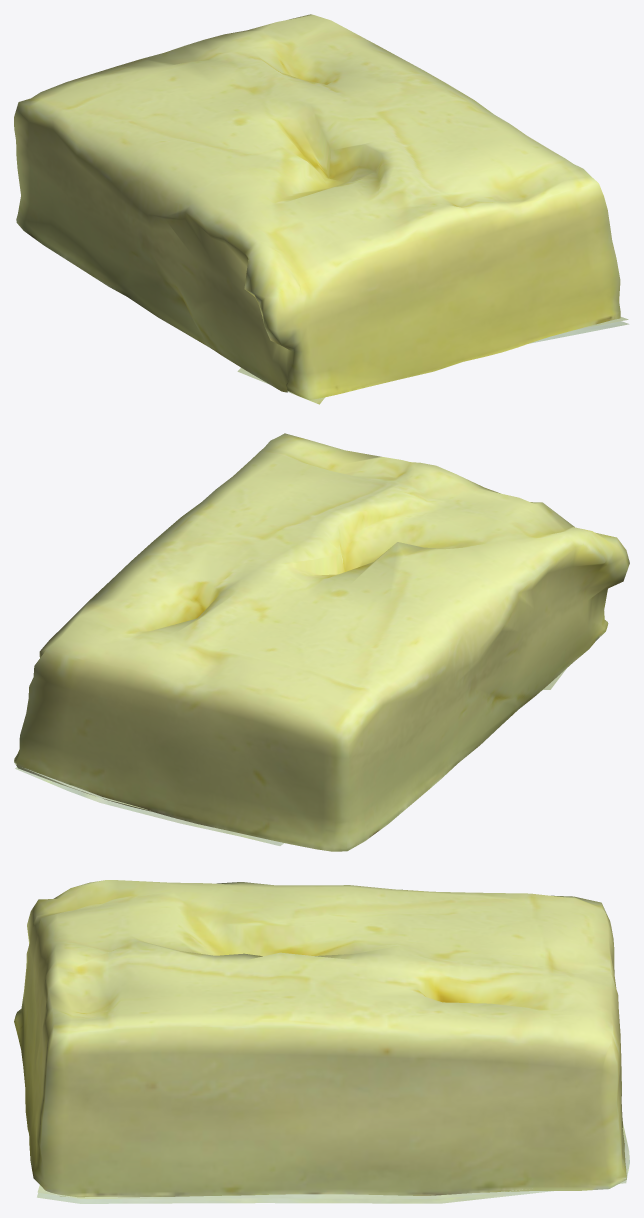
Rendered from butteronly.fbx.
3 views of the same model, one above another, from view 1: azimuth 30°, elevation 25°; view 2: azimuth 150°, elevation 25°; view 3: azimuth 270°, elevation 25° (orthographic). The views are drawn at different scales.
Visible parts, largest first — view 1: Object_2; view 2: Object_2; view 3: Object_2.
Part boxes in pixels (x1,y1,x2,y2): Object_2: (14,14,629,404); Object_2: (14,433,629,851); Object_2: (14,880,629,1203).
Size of the model in its own units: 354 by 153 by 492.
